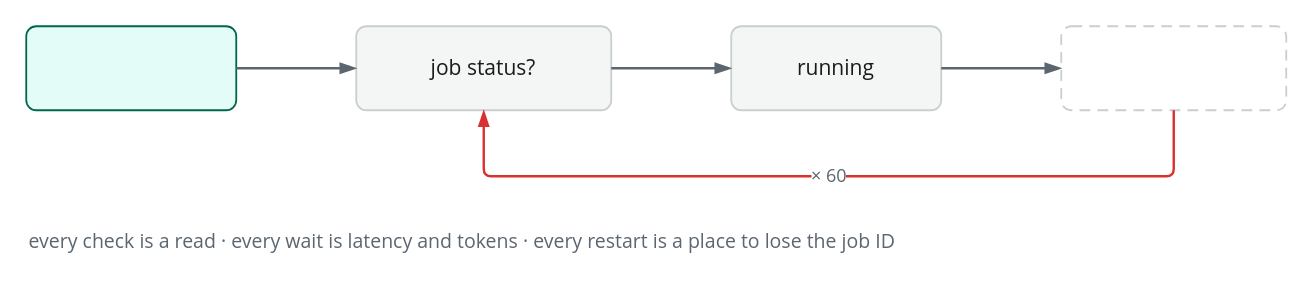
Some shapes in this 1314 by 287 pixel diagram are drawn without their labels. The shapes that lost their labels are listed below. From the top down, each one's box as (x1, y1, x2, y2) in pixels, then its label:
(25, 25, 236, 110): agent
(1060, 25, 1286, 110): sleep…
